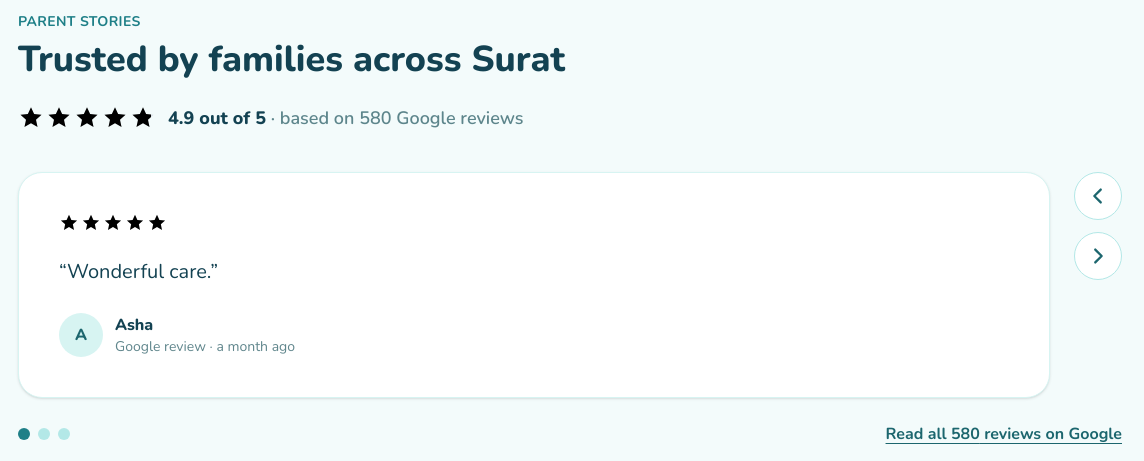
Test: Reviews › goes backwards with the previous button, wrapping to the last review
Click the button named "previous review" at (1098, 196), box [1074, 172, 1122, 220]
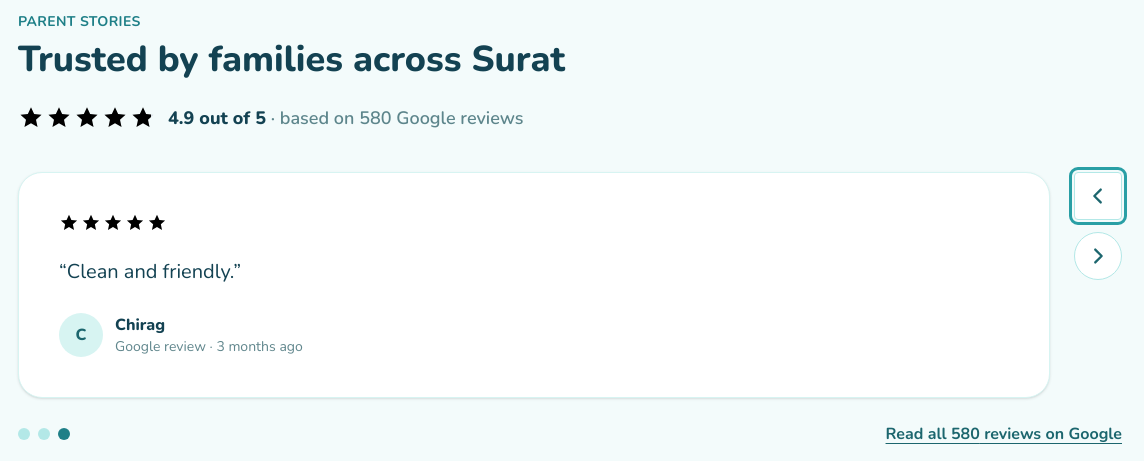
Now the text "Chirag" is shown, box [115, 314, 165, 336]
